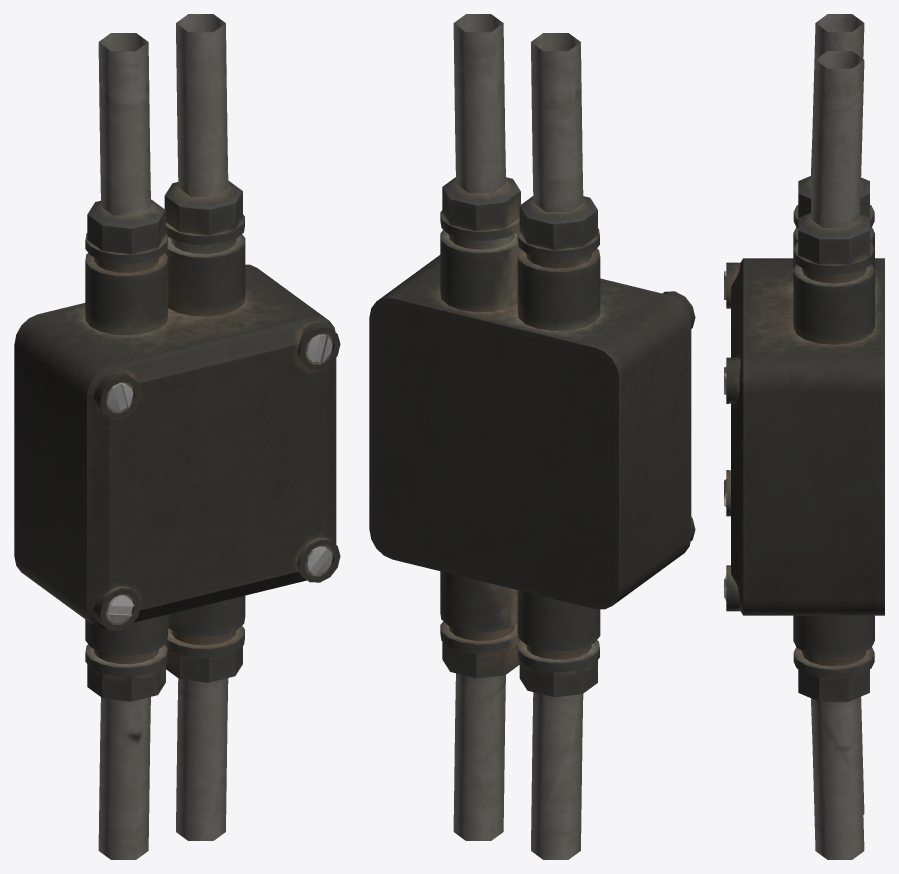
The model's file is cable_cable_box_double.fbx.
The picture shows the model from 3 angles, left to right: view 1: azimuth 30°, elevation 25°; view 2: azimuth 150°, elevation 25°; view 3: azimuth 270°, elevation 25°; orthographic projection. The views are drawn at different scales.
Visible parts, largest first — view 1: modular_electric_cables_boxes__cable_box_double; view 2: modular_electric_cables_boxes__cable_box_double; view 3: modular_electric_cables_boxes__cable_box_double.
Part boxes in pixels (box(x1,y1,x2,y2)): modular_electric_cables_boxes__cable_box_double: box(14, 14, 340, 859); modular_electric_cables_boxes__cable_box_double: box(369, 14, 695, 859); modular_electric_cables_boxes__cable_box_double: box(724, 14, 884, 859).
Bounding box in the file's own units: 0.0646 × 0.2 × 0.0369.
